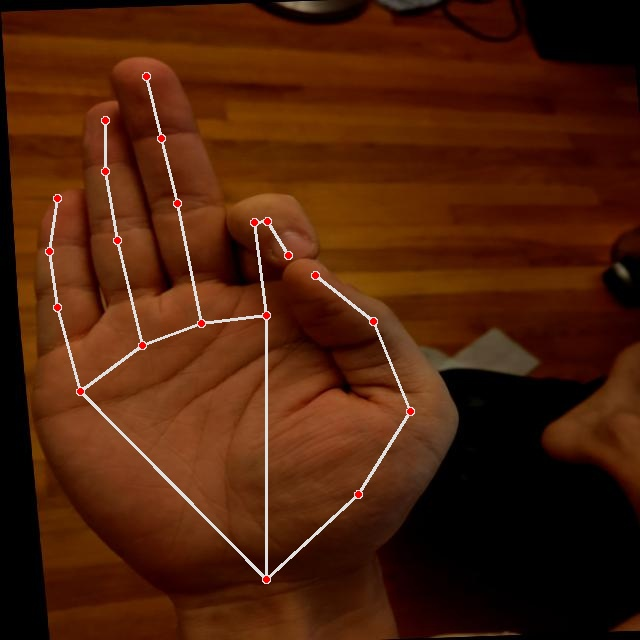F: (2, 40, 479, 612)
